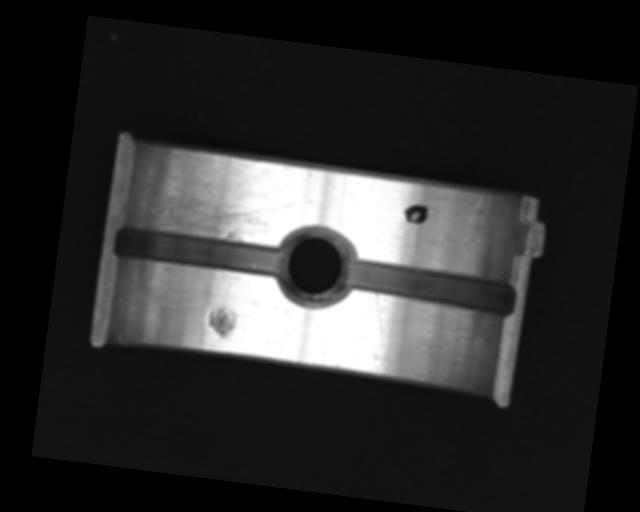blot: (402, 202, 429, 226)
bruise: (206, 303, 238, 338)
gap: (338, 257, 519, 319), (112, 224, 287, 280)
hole: (271, 223, 356, 312)
nick: (369, 292, 391, 349)
scratch: (125, 168, 298, 249)
